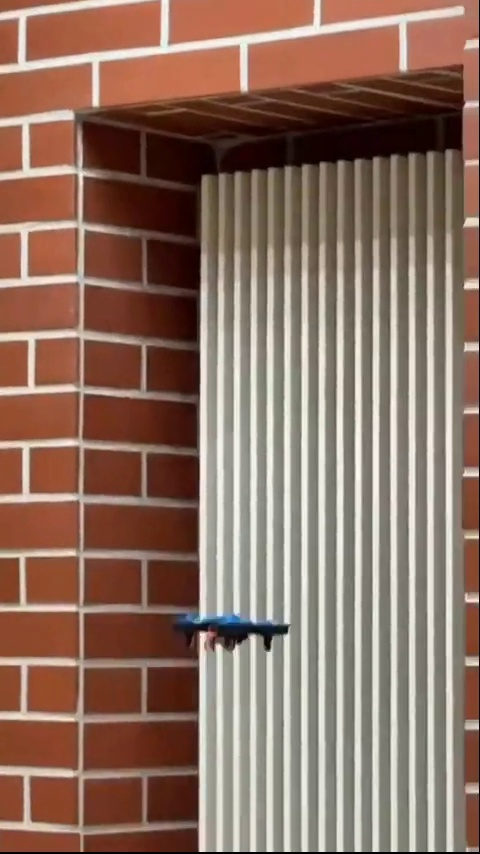drone: (176, 612, 286, 659)
